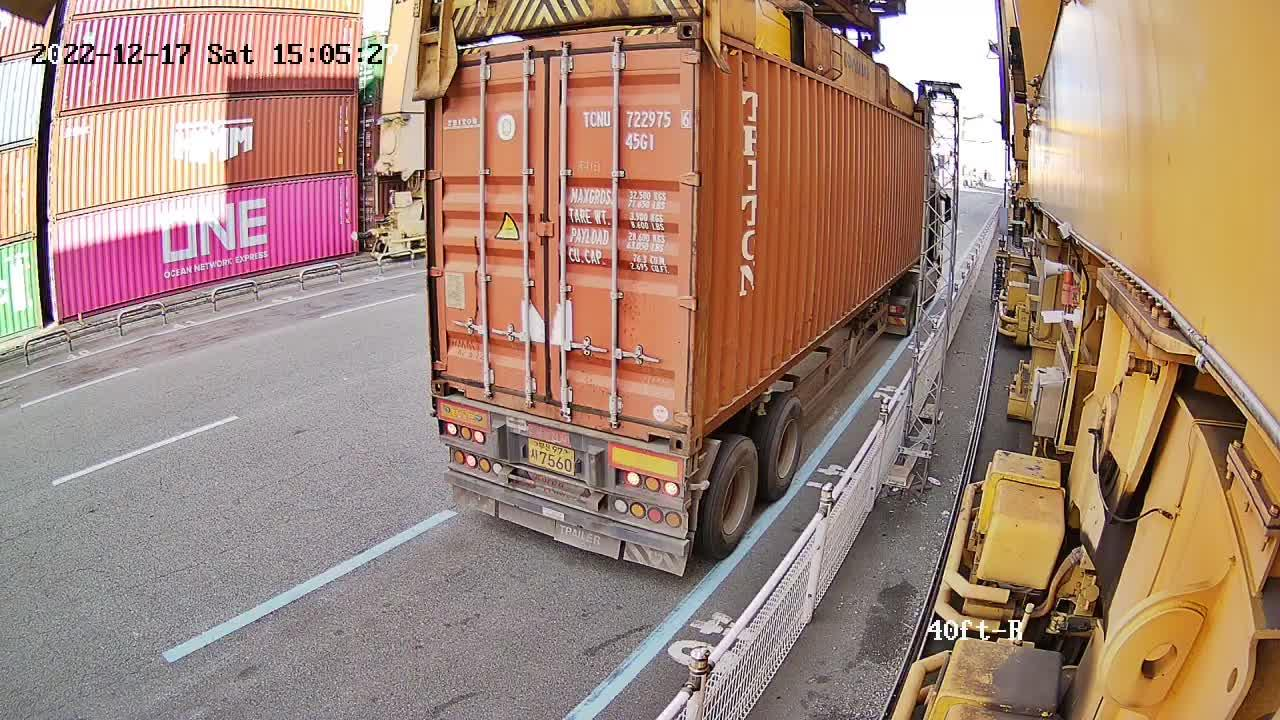Chassis: (434, 398, 687, 484)
Cone: (687, 449, 707, 485)
Hole_L: (689, 381, 723, 453), (431, 358, 465, 393)
Hole_R: (638, 393, 687, 455)
Tire: (705, 440, 762, 549), (766, 405, 802, 493)
